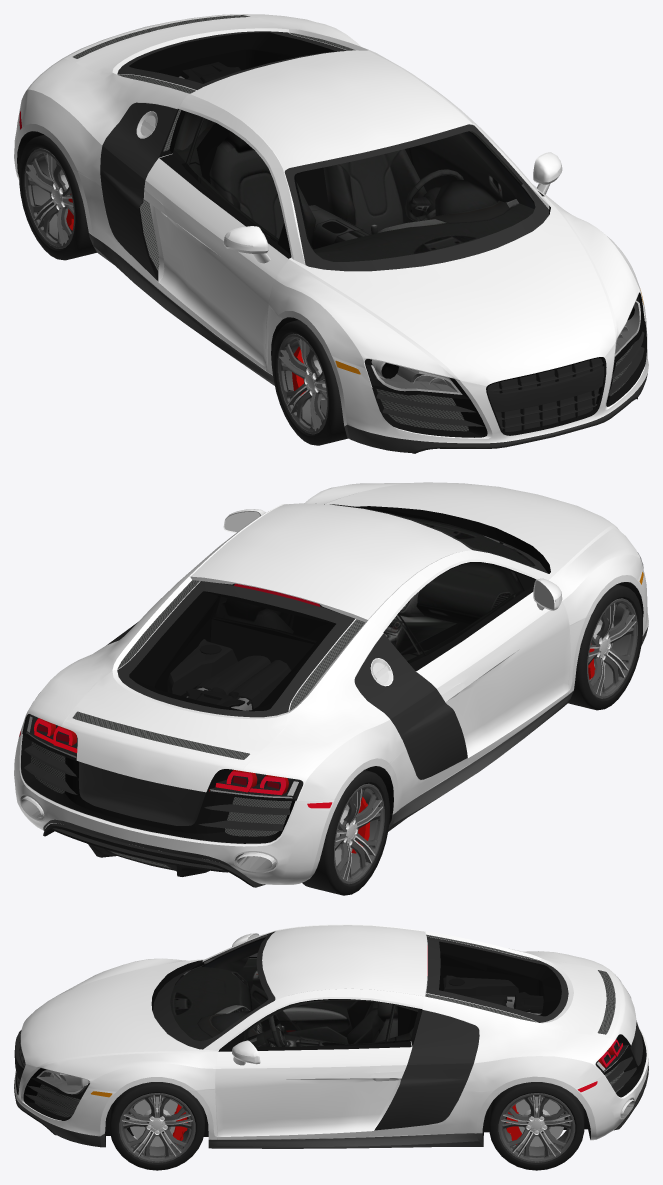
The picture shows the model from 3 angles, top to bottom: view 1: azimuth 30°, elevation 25°; view 2: azimuth 150°, elevation 25°; view 3: azimuth 270°, elevation 25°; orthographic projection. The views are drawn at different scales.
Visible parts, largest first — view 1: object.030_Material.008_0, object.028_Material.009_0, object.002_int_0, object.029_Material.024_0, object.011_Material.022_0, object.026_Material.013_0, object.025_yugimuigftyumfi_0, object.030_Material.032_0, object.012_grill_0, object.027_Material.001_0, object.031_Material.020_0, object.034_Material.020_0 (+6 smaller); view 2: object.030_Material.008_0, object.028_Material.009_0, object.029_Material.024_0, object.011_Material.022_0, object.002_int_0, object.025_yugimuigftyumfi_0, object.026_Material.013_0, object.012_grill_0, object.009_Material.025_0, object.027_Material.001_0, object.030_Material.032_0, object.034_Material.020_0 (+11 smaller); view 3: object.030_Material.008_0, object.028_Material.009_0, object.002_int_0, object.029_Material.024_0, object.025_yugimuigftyumfi_0, object.026_Material.013_0, object.030_Material.032_0, object.035_Material.020_0, object.008_Material.020_0, object.011_Material.022_0, object.012_grill_0, object.035_Material.015_0 (+11 smaller).
Part boxes in pixels (x1=…): object.030_Material.008_0: x1=14, y1=14, x2=648, y2=443; object.028_Material.009_0: x1=129, y1=32, x2=535, y2=261; object.002_int_0: x1=174, y1=112, x2=534, y2=261; object.029_Material.024_0: x1=129, y1=32, x2=646, y2=437; object.011_Material.022_0: x1=173, y1=62, x2=644, y2=453; object.026_Material.013_0: x1=117, y1=31, x2=549, y2=271; object.025_yugimuigftyumfi_0: x1=100, y1=102, x2=177, y2=280; object.030_Material.032_0: x1=89, y1=233, x2=647, y2=452; object.012_grill_0: x1=73, y1=15, x2=633, y2=431; object.027_Material.001_0: x1=365, y1=293, x2=644, y2=398; object.031_Material.020_0: x1=272, y1=320, x2=348, y2=445; object.034_Material.020_0: x1=19, y1=134, x2=96, y2=260; object.030_Material.008_0: x1=14, y1=482, x2=648, y2=884; object.028_Material.009_0: x1=129, y1=504, x2=534, y2=711; object.029_Material.024_0: x1=21, y1=506, x2=550, y2=843; object.011_Material.022_0: x1=24, y1=542, x2=534, y2=887; object.002_int_0: x1=212, y1=518, x2=532, y2=663; object.025_yugimuigftyumfi_0: x1=106, y1=621, x2=467, y2=779; object.026_Material.013_0: x1=117, y1=504, x2=548, y2=717; object.012_grill_0: x1=31, y1=580, x2=365, y2=868; object.009_Material.025_0: x1=168, y1=639, x2=290, y2=709; object.027_Material.001_0: x1=22, y1=552, x2=643, y2=800; object.030_Material.032_0: x1=43, y1=549, x2=648, y2=882; object.034_Material.020_0: x1=302, y1=770, x2=389, y2=895; object.030_Material.008_0: x1=14, y1=924, x2=648, y2=1140; object.028_Material.009_0: x1=170, y1=935, x2=561, y2=1047; object.002_int_0: x1=170, y1=937, x2=418, y2=1047; object.029_Material.024_0: x1=15, y1=942, x2=646, y2=1128; object.025_yugimuigftyumfi_0: x1=375, y1=1010, x2=479, y2=1130; object.026_Material.013_0: x1=153, y1=931, x2=568, y2=1049; object.030_Material.032_0: x1=16, y1=1091, x2=640, y2=1148; object.035_Material.020_0: x1=489, y1=1082, x2=584, y2=1170; object.008_Material.020_0: x1=109, y1=1082, x2=204, y2=1170; object.011_Material.022_0: x1=14, y1=978, x2=648, y2=1135; object.012_grill_0: x1=34, y1=934, x2=623, y2=1117; object.035_Material.015_0: x1=501, y1=1095, x2=571, y2=1158.
Bounding box in the file's own units: 201 × 127 × 443.
Materials: 36 (2 with a texture image).
